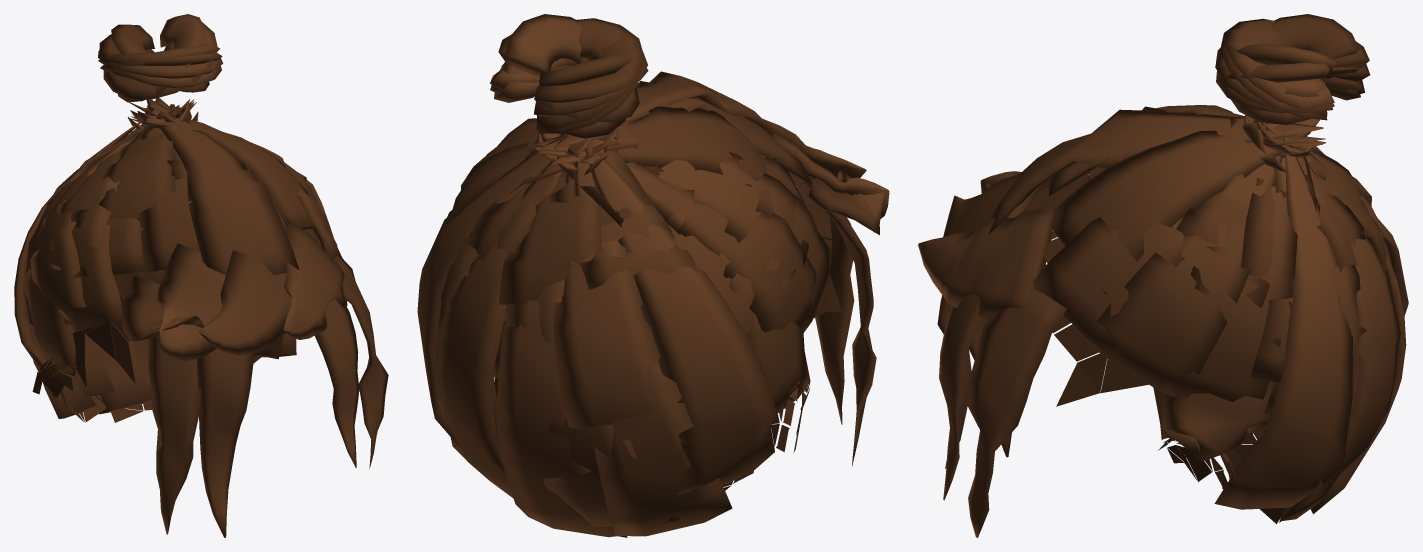
Rendered from kopf.haar.dutt_hoch.glb.
The picture shows the model from 3 angles, left to right: view 1: azimuth 30°, elevation 25°; view 2: azimuth 150°, elevation 25°; view 3: azimuth 270°, elevation 25°; orthographic projection. The views are drawn at different scales.
Parts seen in each view (by area): view 1: haar; view 2: haar; view 3: haar.
Boxes of the visible parts, x1,y1,x2,y2 form: haar: (14,14,388,537); haar: (417,14,889,537); haar: (918,14,1408,537).
Size of the model in its own units: 0.2267 by 0.2827 by 0.2546.
